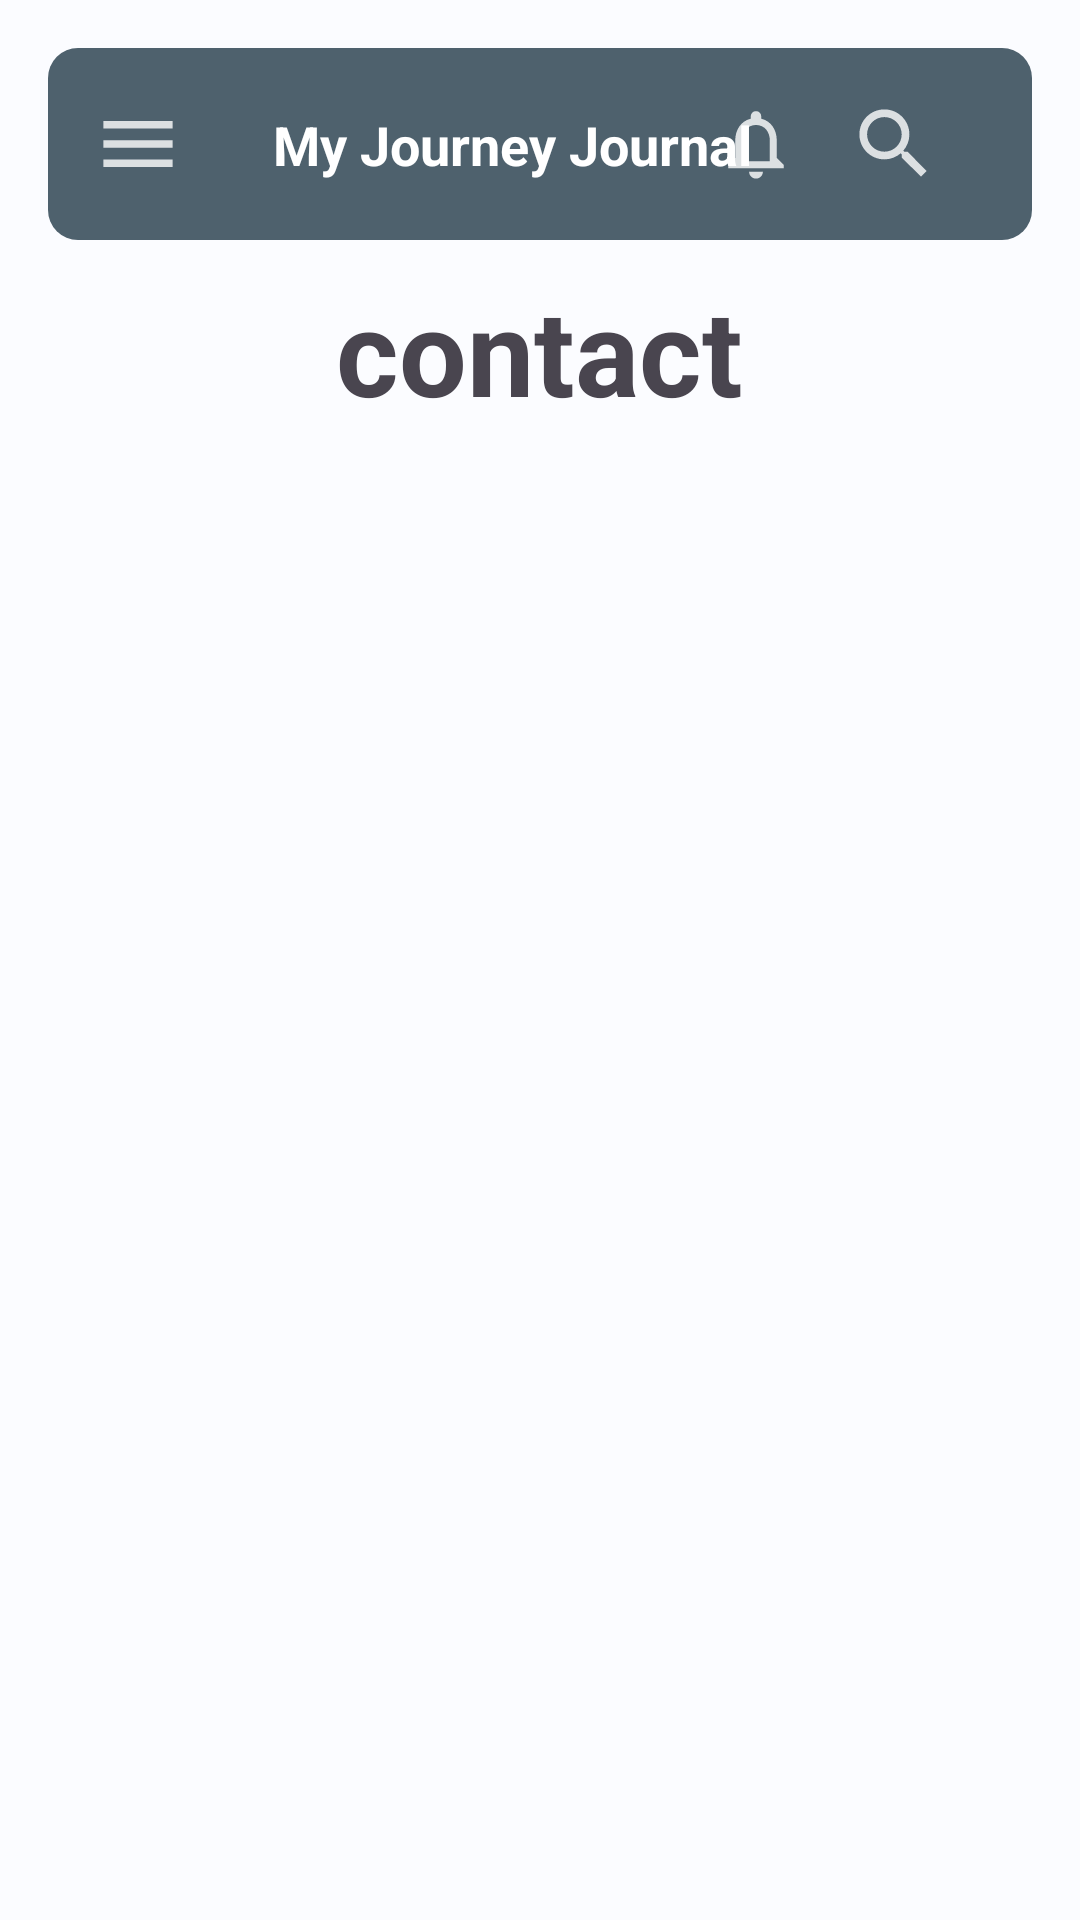

Where icons sit on this 1080 × 1920 app screen, as (x1, y1, x2, y2):
menu: (103, 121, 173, 167)
search: (859, 109, 927, 177)
